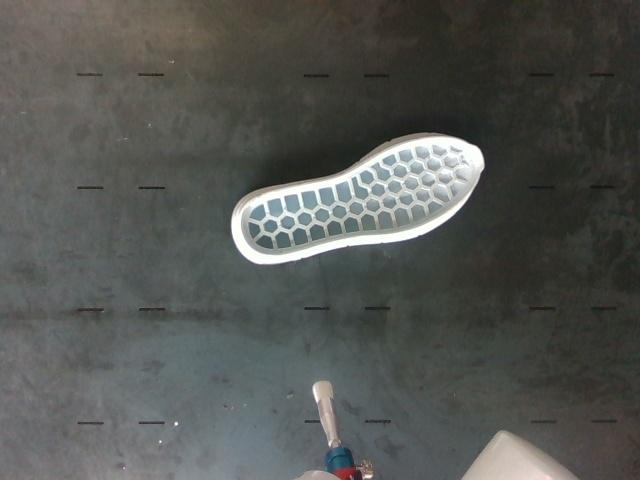shoes: (239, 137, 483, 255)
